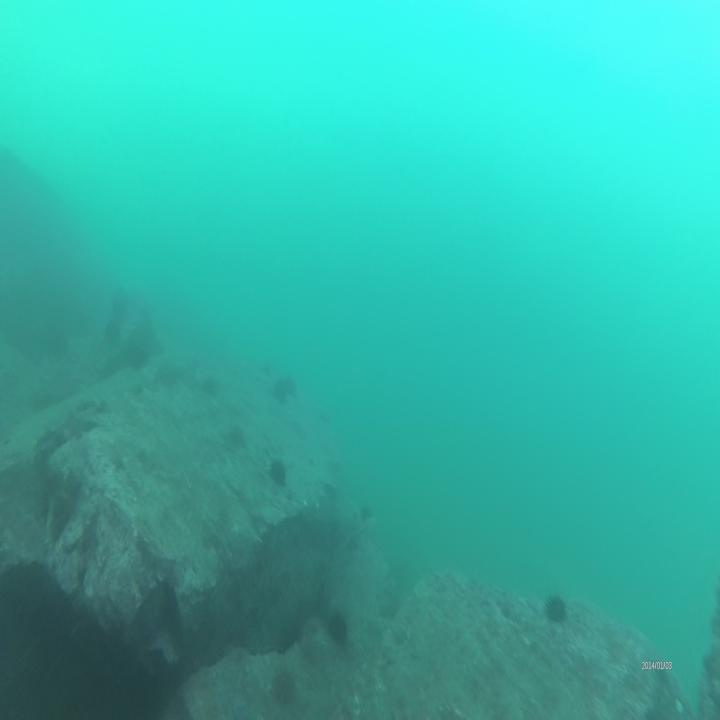echinus: (267, 655, 297, 710), (326, 605, 354, 648), (541, 588, 568, 624), (268, 451, 288, 490)
